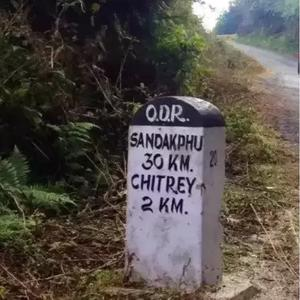kmstone: (126, 90, 224, 292)
